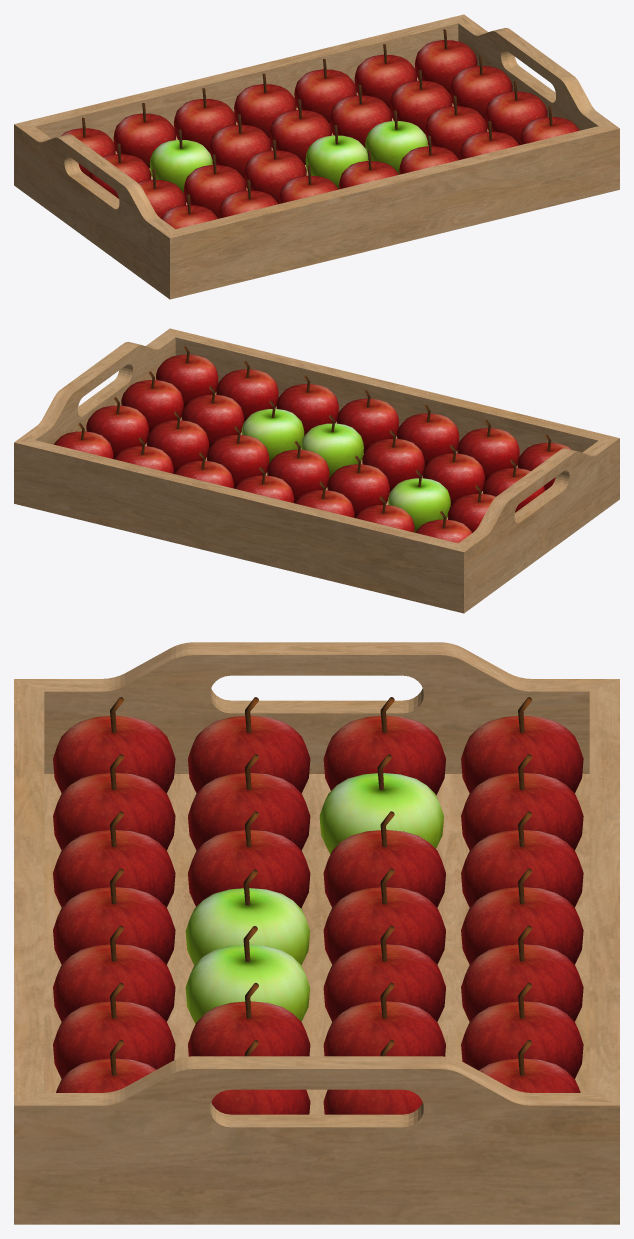
The model's file is apples.fbx.
3 views of the same model, one above another, from view 1: azimuth 30°, elevation 25°; view 2: azimuth 150°, elevation 25°; view 3: azimuth 270°, elevation 25° (orthographic). The views are drawn at different scales.
Visible parts, largest first — view 1: wood_tray, Apple004, Apple013, Apple016, Apple012, Apple024, Apple008, Apple020, Apple025, Apple009, Apple017, Apple021 (+17 smaller); view 2: wood_tray, Apple_Green, Apple_Green001, Apple025, Apple_Green002, Apple009, Apple013, Apple017, Apple021, Apple026, Apple022, Apple010 (+17 smaller); view 3: wood_tray, Apple_Green, Apple_Green002, Apple010, Apple_Green001, Apple012, Apple004, Apple007, Apple016, Apple, Apple003, Apple006 (+17 smaller).
Boxes of the visible parts, x1,y1,x2,y2 form: wood_tray: (14, 14, 619, 299); Apple004: (113, 103, 176, 168); Apple013: (269, 99, 331, 164); Apple016: (294, 59, 356, 123); Apple012: (234, 73, 296, 137); Apple024: (415, 29, 477, 94); Apple008: (174, 88, 236, 151); Apple020: (354, 44, 417, 108); Apple025: (450, 55, 512, 119); Apple009: (209, 114, 271, 178); Apple017: (329, 84, 392, 147); Apple021: (390, 70, 452, 133); wood_tray: (14, 328, 619, 613); Apple_Green: (388, 470, 450, 532); Apple_Green001: (301, 415, 363, 477); Apple025: (86, 397, 148, 459); Apple_Green002: (241, 400, 304, 463); Apple009: (327, 455, 389, 517); Apple013: (267, 441, 329, 503); Apple017: (206, 426, 269, 488); Apple021: (146, 411, 208, 473); Apple026: (121, 371, 183, 433); Apple022: (181, 386, 243, 448); Apple010: (362, 430, 424, 493); wood_tray: (14, 642, 619, 1224); Apple_Green: (319, 754, 443, 854); Apple_Green002: (185, 926, 309, 1023); Apple010: (188, 811, 310, 908); Apple_Green001: (185, 869, 309, 965); Apple012: (461, 868, 583, 964); Apple004: (461, 754, 583, 850); Apple007: (53, 754, 175, 850); Apple016: (461, 925, 583, 1021); Apple: (461, 697, 583, 792); Apple003: (53, 697, 175, 793); Apple006: (188, 754, 310, 850).
Size of the model in its own units: 289 by 49.19 by 174.
Materials: 3 (3 with a texture image).
